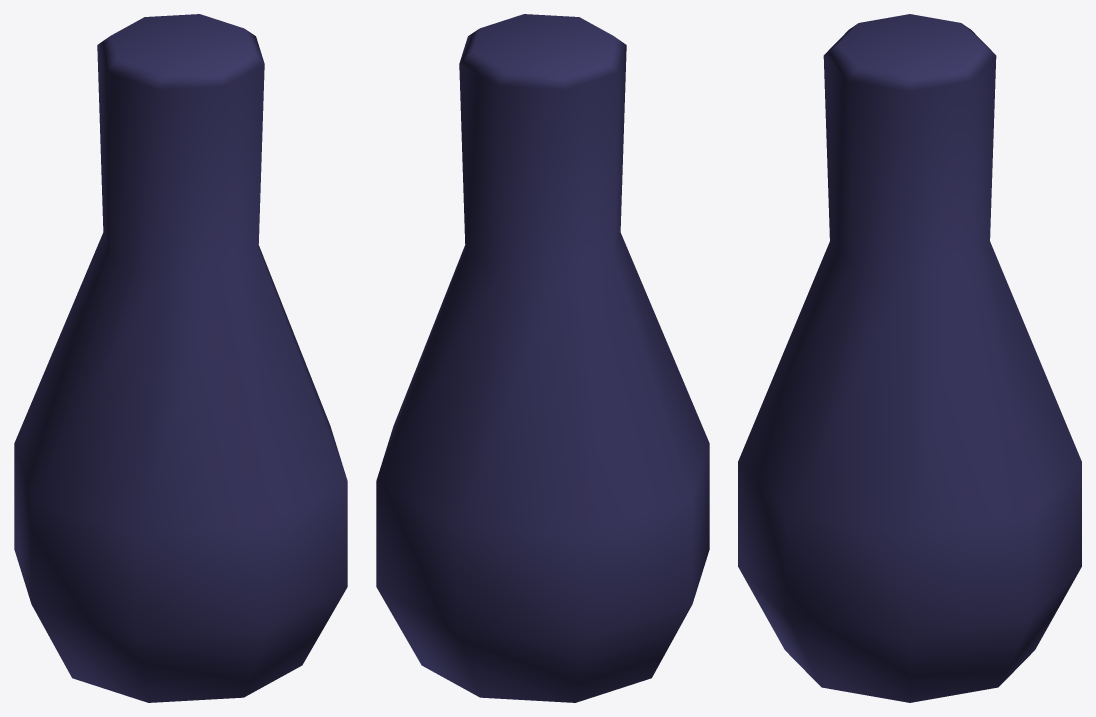
Rendered from Potion_01.fbx.
The picture shows the model from 3 angles, left to right: view 1: azimuth 30°, elevation 25°; view 2: azimuth 150°, elevation 25°; view 3: azimuth 270°, elevation 25°; orthographic projection.
Visible parts, largest first — view 1: Potion_01; view 2: Potion_01; view 3: Potion_01.
Boxes of the visible parts, bbox=[...] form: Potion_01: bbox=[14, 14, 347, 702]; Potion_01: bbox=[376, 14, 709, 702]; Potion_01: bbox=[738, 14, 1081, 702].
Size of the model in its own units: 10.64 by 20.67 by 10.64.
